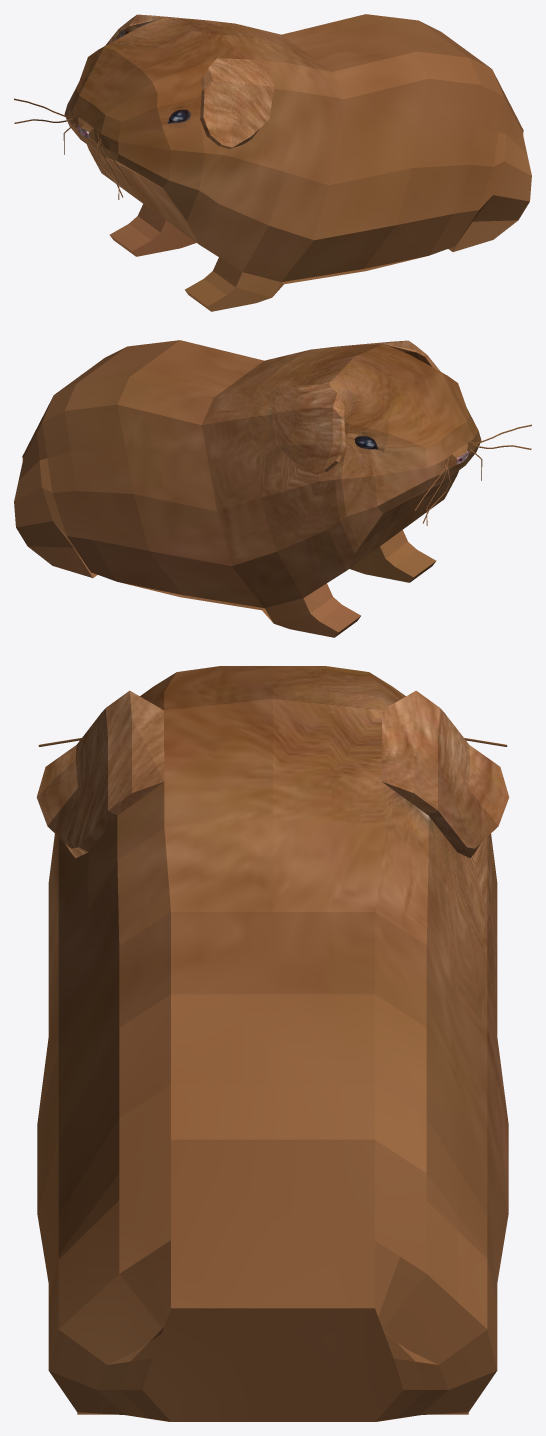
File: Cuy.gltf
3 views of the same model, one above another, from view 1: azimuth 30°, elevation 25°; view 2: azimuth 150°, elevation 25°; view 3: azimuth 270°, elevation 25° (orthographic). The views are drawn at different scales.
Parts seen in each view (by area): view 1: Plane; view 2: Plane; view 3: Plane.
Boxes of the visible parts, x1,y1,x2,y2 form: Plane: (14, 14, 531, 311); Plane: (14, 340, 531, 637); Plane: (36, 666, 509, 1421).
Bounding box in the file's own units: 7.16 × 3.81 × 3.4.
1 material, 1 textured.
